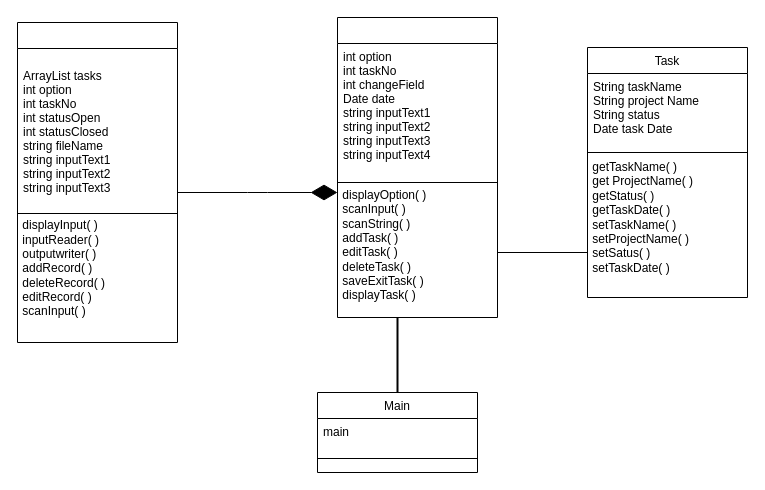
The diagram is 765 pixels wide and 490 high, and some of its shapes have lost their labels. Each missing label, with the box of its shape:
TaskInput: (336, 16, 498, 318)
ToDoDemo: (16, 22, 178, 342)
